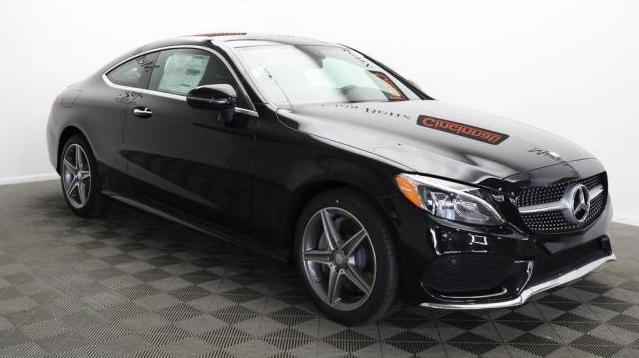C300Coupe: (39, 21, 628, 323)
